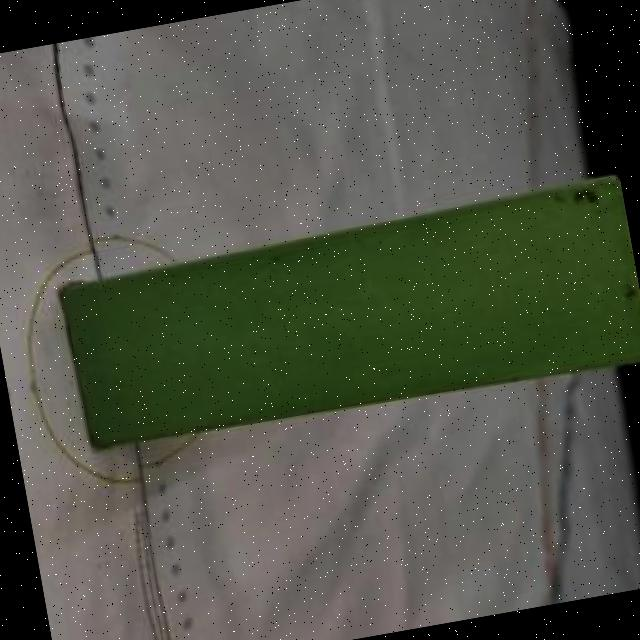greenbox: (35, 164, 640, 467)
